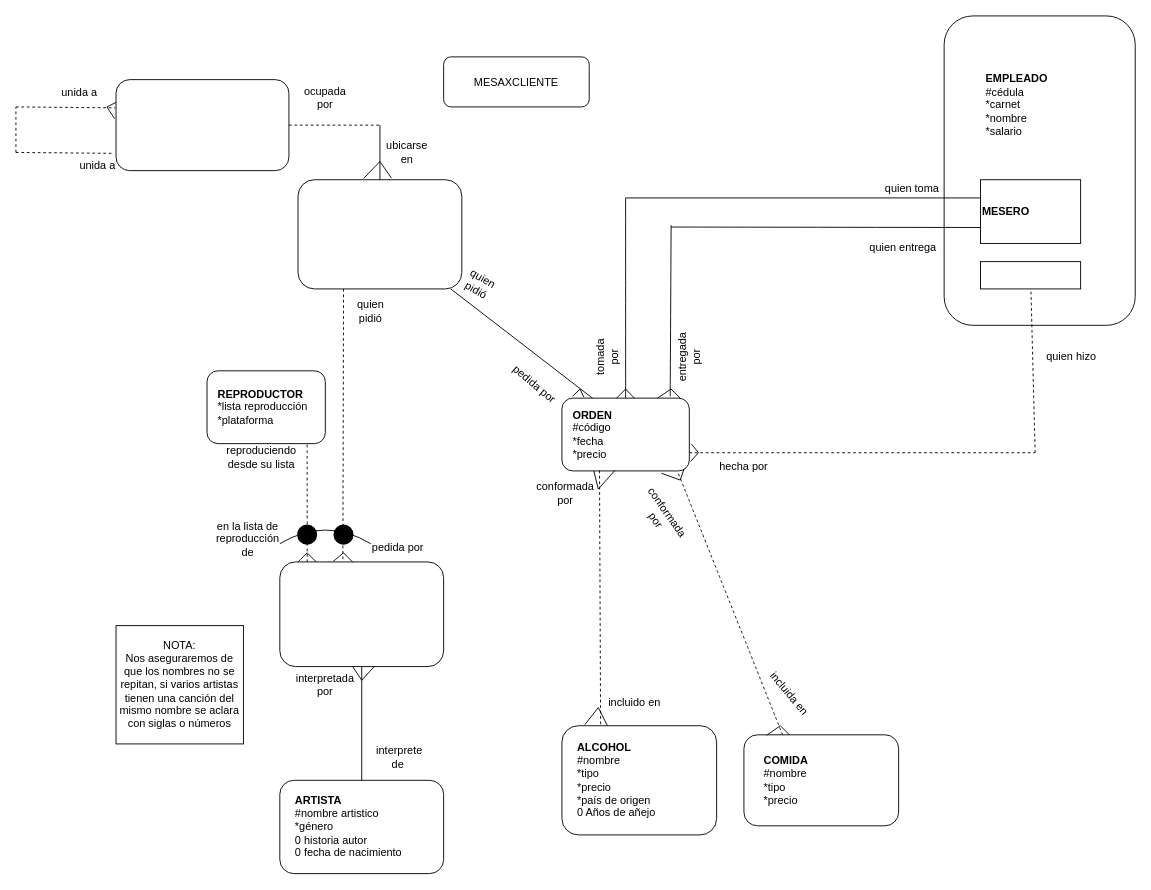
Some shapes in this 1151 by 890 pixel diagram are drawn without their labels. Grey dashed boxes stand in for pictures. The shapes that lost their labels are listed below. From the top down, each one's centre as x and y in pixels, then its label:
point 202,125: MESA #nombre ID *tamaño *ubicación
point 379,234: CLIENTE #cédula *nombre *cantidad personas
point 1030,275: BARTENDER
point 361,614: CANCIÓN #nombre *álbum *genero 0 imagen álbum
